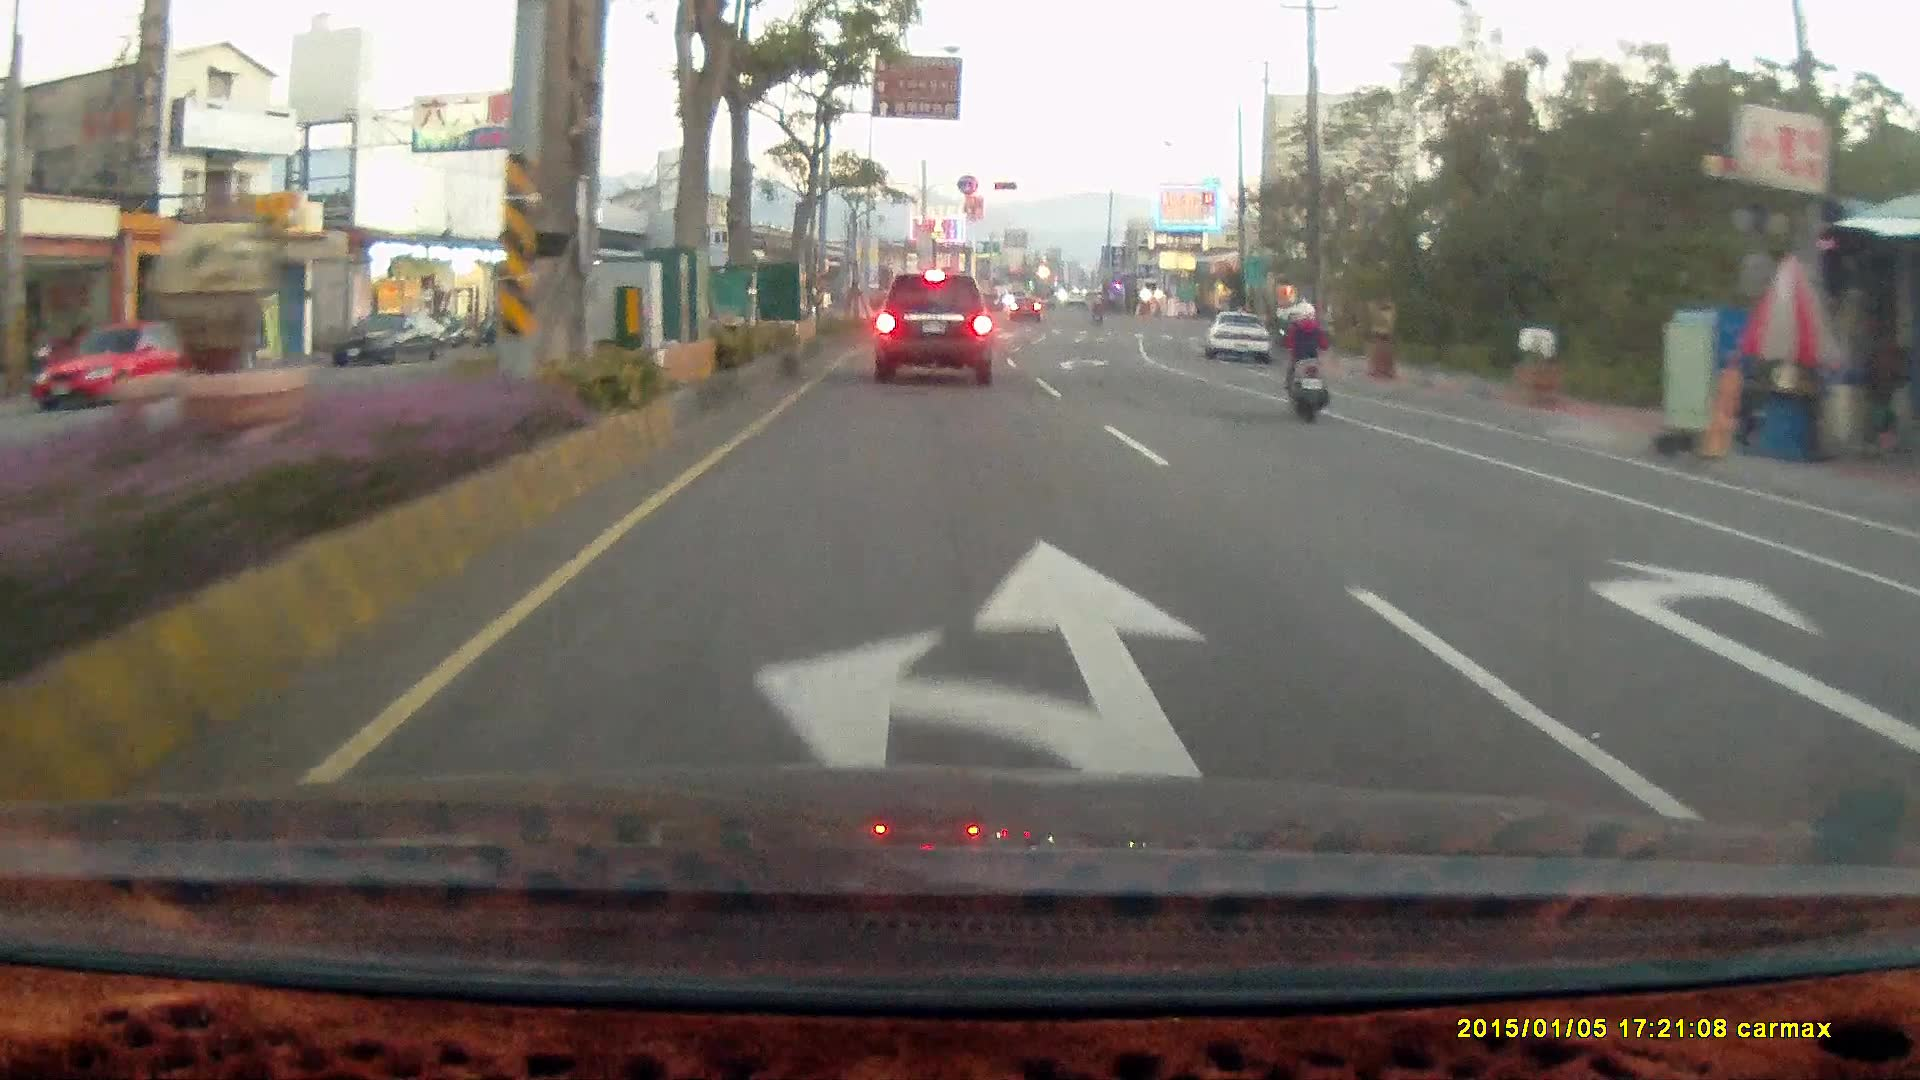rider: (1276, 296, 1332, 423)
vehicle: (30, 320, 206, 411), (874, 268, 991, 384), (1896, 493, 1920, 836), (1883, 528, 1920, 690), (337, 308, 447, 363), (1204, 309, 1272, 362), (1205, 312, 1273, 365)
